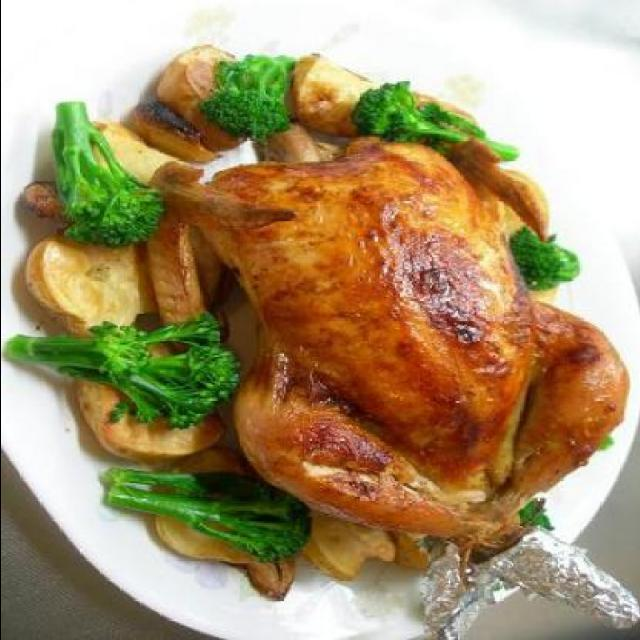Broccoli: (210, 56, 292, 138)
Chicken roast: (186, 172, 620, 546)
